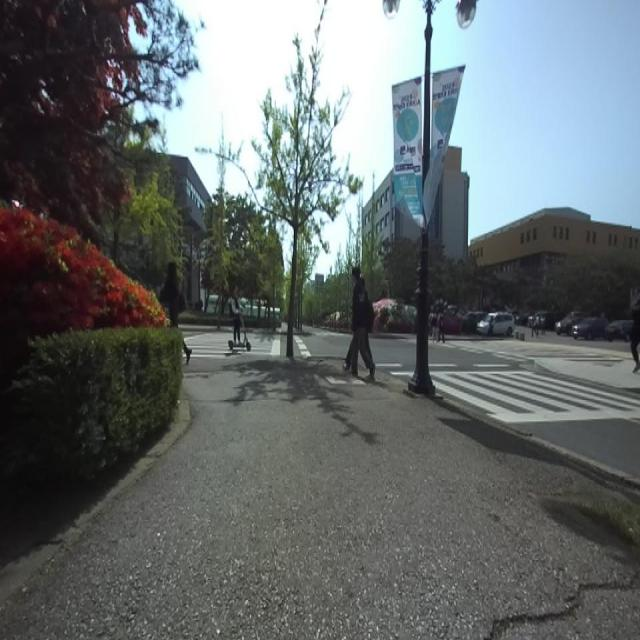sidewalk: (0, 357, 640, 639)
